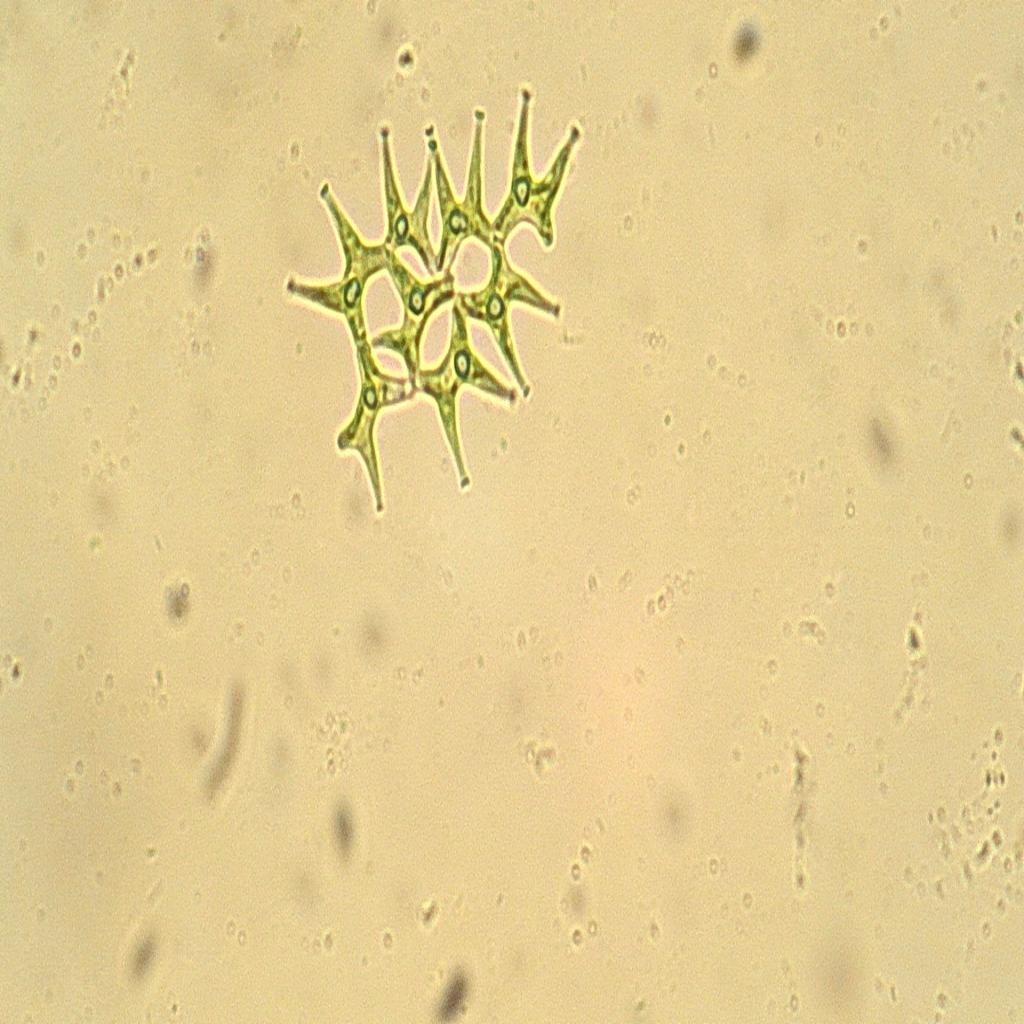Pediastrum_CFI: (284, 75, 593, 539)
